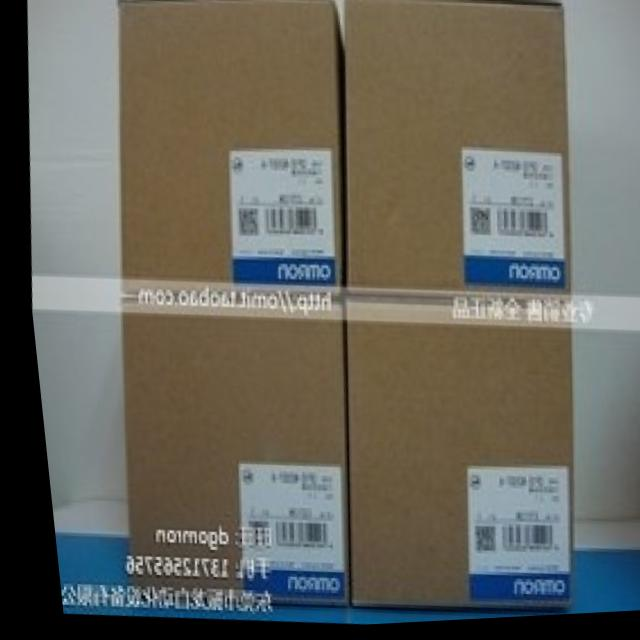box: (335, 299, 568, 616), (113, 295, 339, 608), (339, 0, 565, 307), (113, 0, 345, 299)
